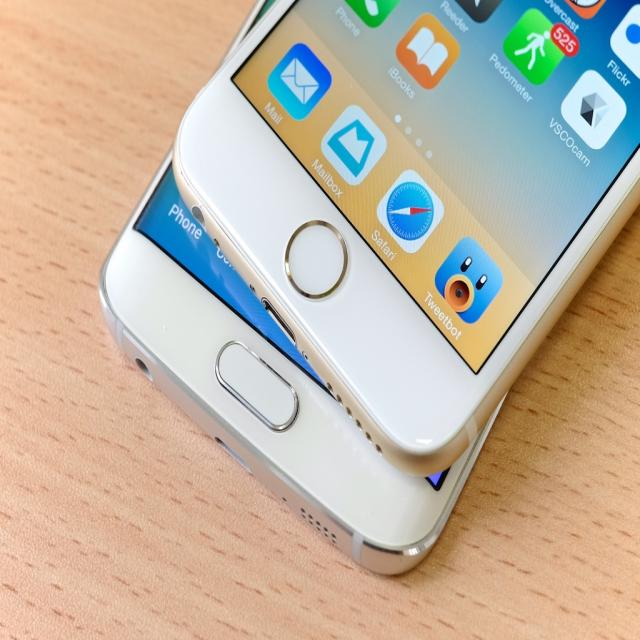Mobile-phone: (96, 0, 512, 577)
